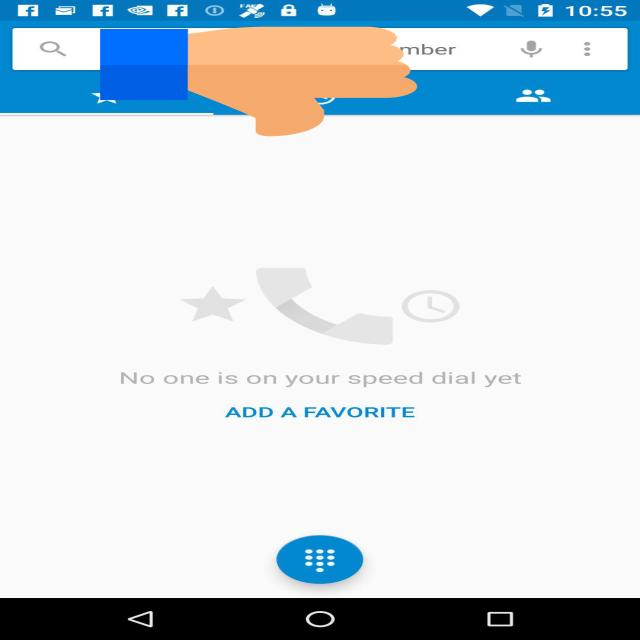obstruction: (100, 24, 417, 139)
